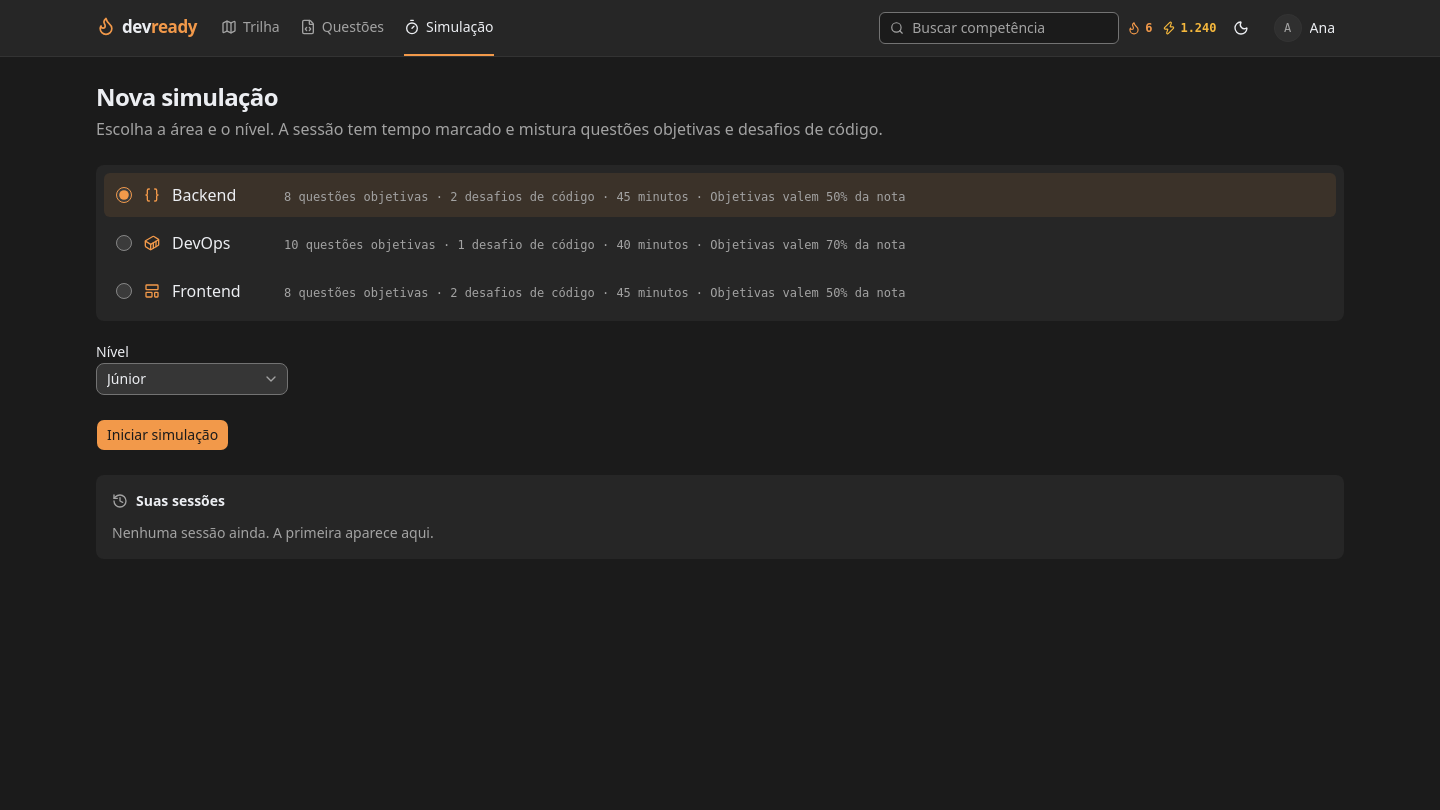
Test: NewSimulationPage › começa uma simulação Pleno, acima do objetivo Júnior
Click the radio button labelled "Backend".
click(124, 195)  # box [116,187,132,203]
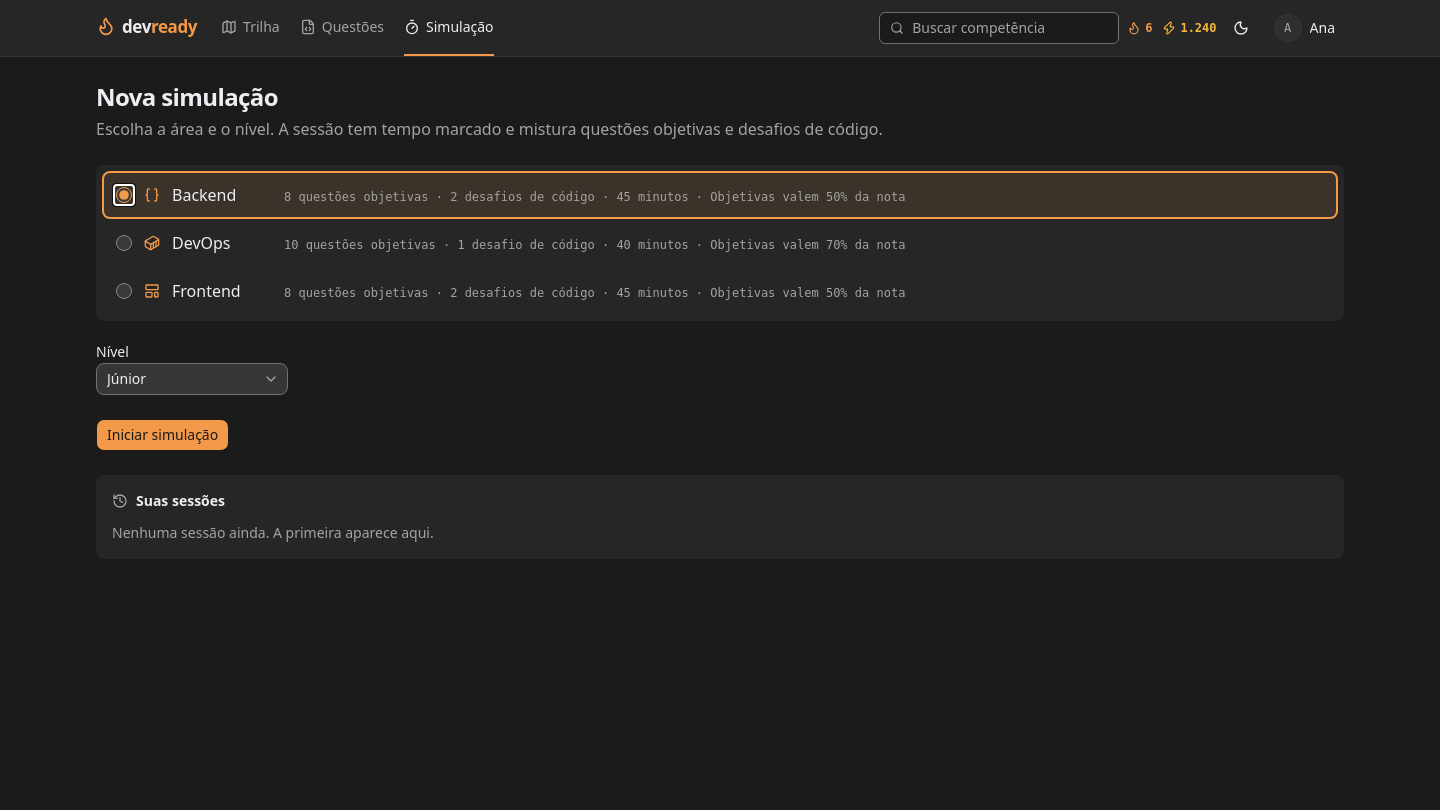
Click the dropdown named "Nível".
click(192, 379)  # box [96,363,288,395]
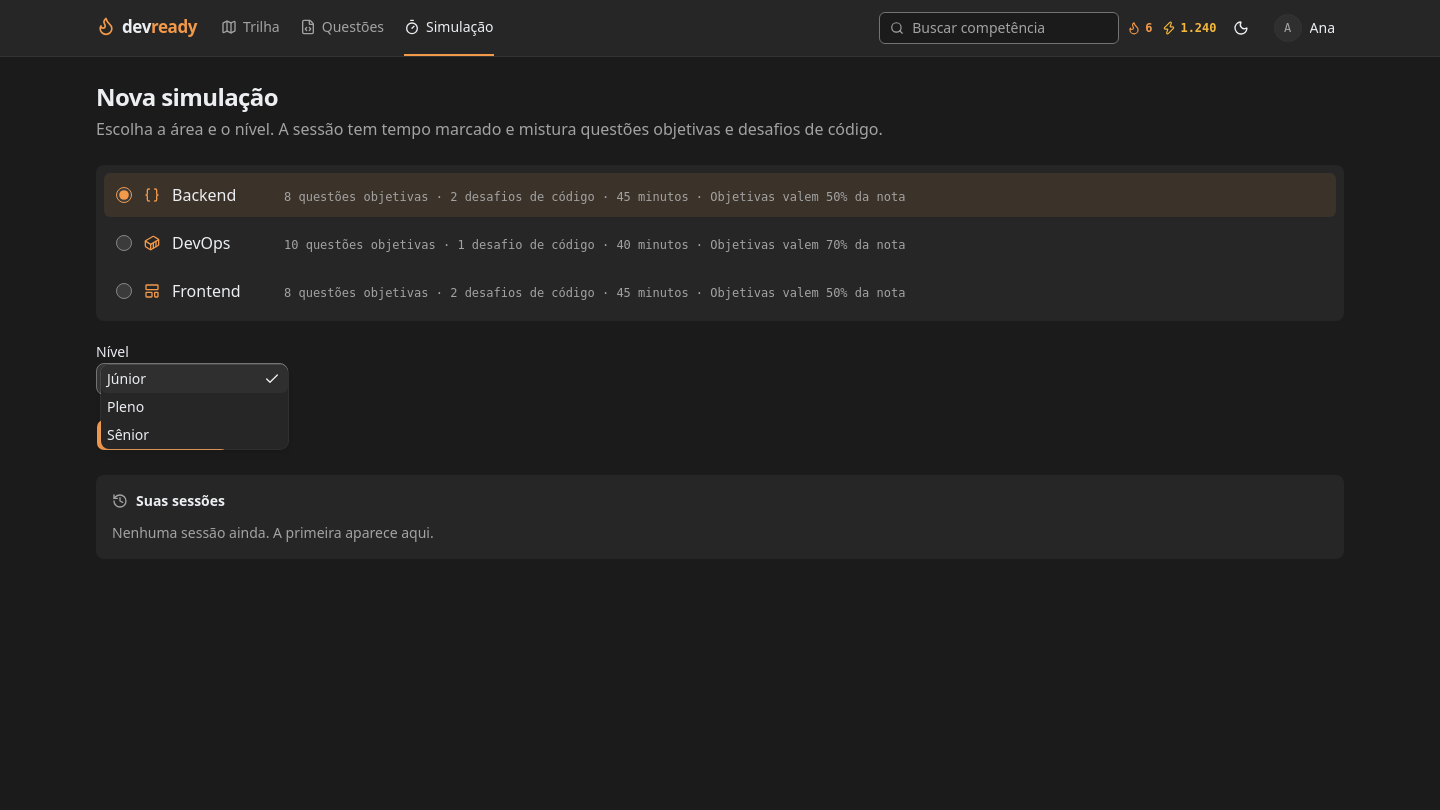
Click the option "Pleno".
click(126, 406)  # box [107,397,144,416]
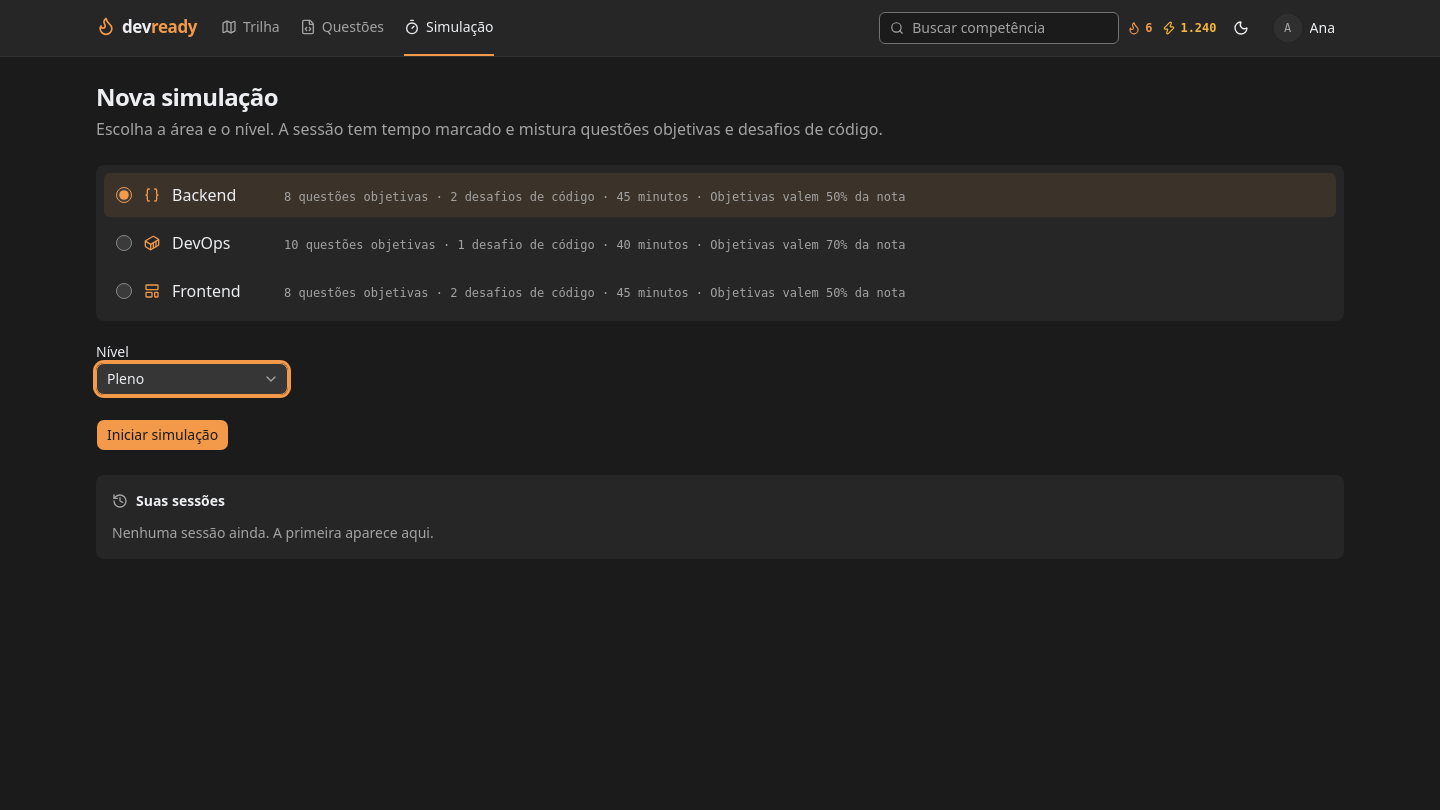
Click the button "Iniciar simulação".
click(163, 435)  # box [96,419,229,451]
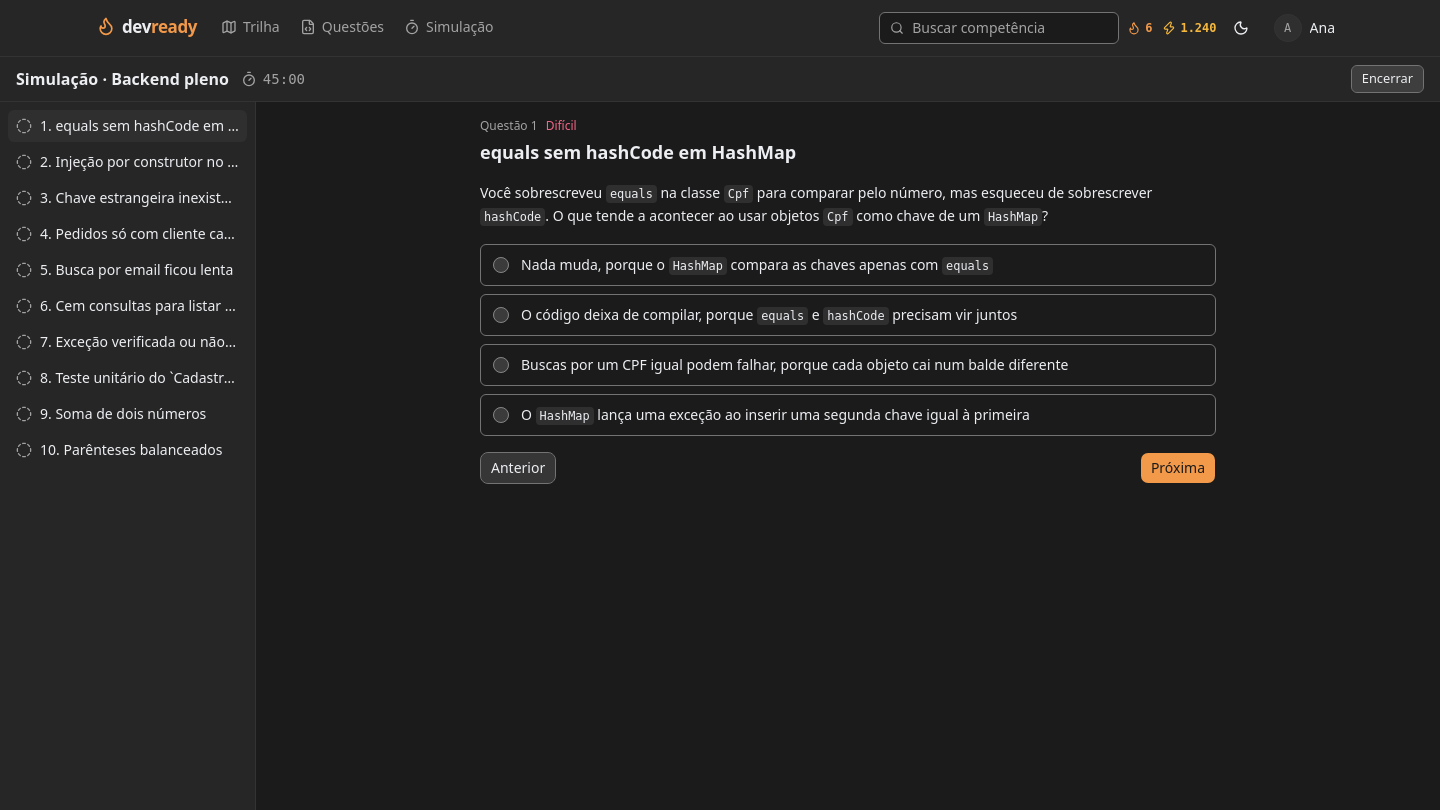
Now the heading "Simulação · Backend pleno" is shown, box [16,67,229,91]
